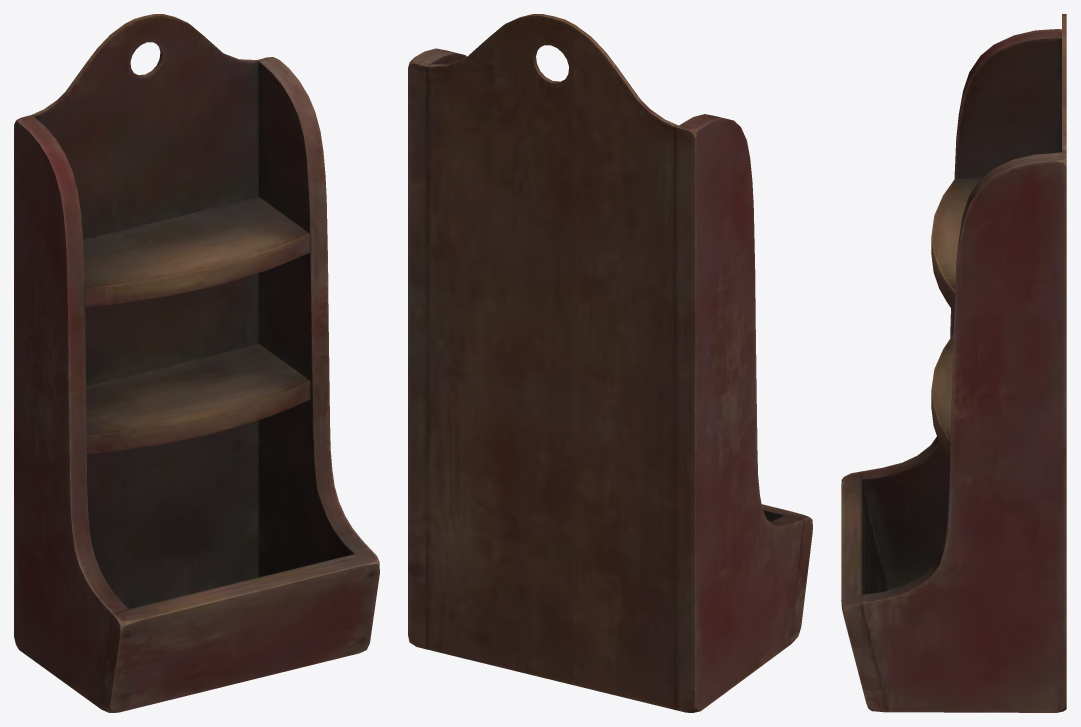
Rendered from painted_wooden_shelves.glb.
3 renders of one model, left to right at view 1: azimuth 30°, elevation 25°; view 2: azimuth 150°, elevation 25°; view 3: azimuth 270°, elevation 25°, orthographic. The views are drawn at different scales.
Parts seen in each view (by area): view 1: painted_wooden_shelves; view 2: painted_wooden_shelves; view 3: painted_wooden_shelves.
Part boxes in pixels (x1,y1,x2,y2): painted_wooden_shelves: [14, 14, 379, 712]; painted_wooden_shelves: [408, 14, 812, 712]; painted_wooden_shelves: [841, 14, 1066, 712].
Bounding box in the file's own units: 0.5111 × 1.13 × 0.3671.
Materials: 1 (1 with a texture image).
